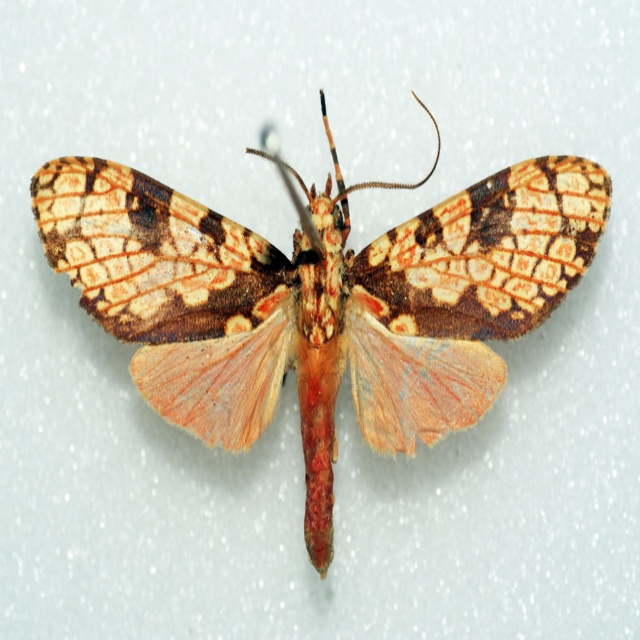Butterfly: (28, 84, 613, 576)
